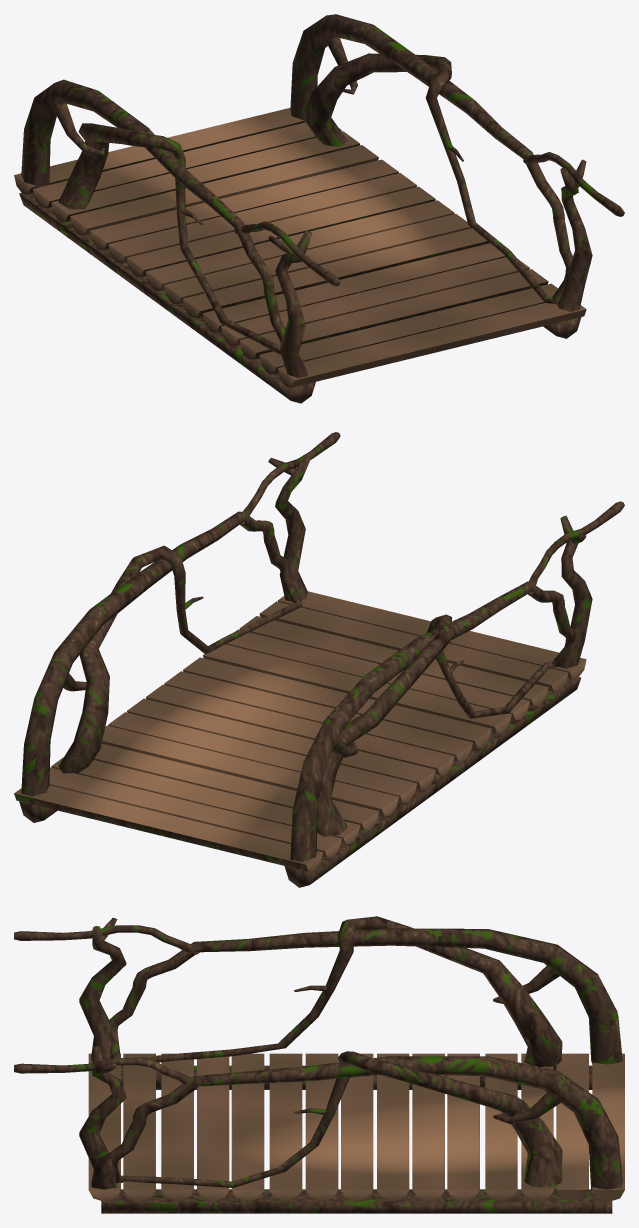
Rendered from Bridge_.fbx.
3 views of the same model, one above another, from view 1: azimuth 30°, elevation 25°; view 2: azimuth 150°, elevation 25°; view 3: azimuth 270°, elevation 25° (orthographic). The views are drawn at different scales.
Parts seen in each view (by area): view 1: Cylinder, tree.001, Cylinder.001; view 2: Cylinder, tree.001, Cylinder.001; view 3: Cylinder, tree.001, Cylinder.001.
Boxes of the visible parts, x1=… form: Cylinder: x1=14, y1=108, x2=586, y2=387; tree.001: x1=21, y1=14, x2=624, y2=377; Cylinder.001: x1=19, y1=121, x2=581, y2=403; Cylinder: x1=14, y1=591, x2=586, y2=871; tree.001: x1=21, y1=432, x2=624, y2=861; Cylinder.001: x1=14, y1=677, x2=581, y2=887; Cylinder: x1=88, y1=1053, x2=624, y2=1201; tree.001: x1=14, y1=916, x2=622, y2=1196; Cylinder.001: x1=101, y1=1065, x2=612, y2=1213.
Bounding box in the file's own units: 568 × 296 × 986.
Materials: 3 (3 with a texture image).
